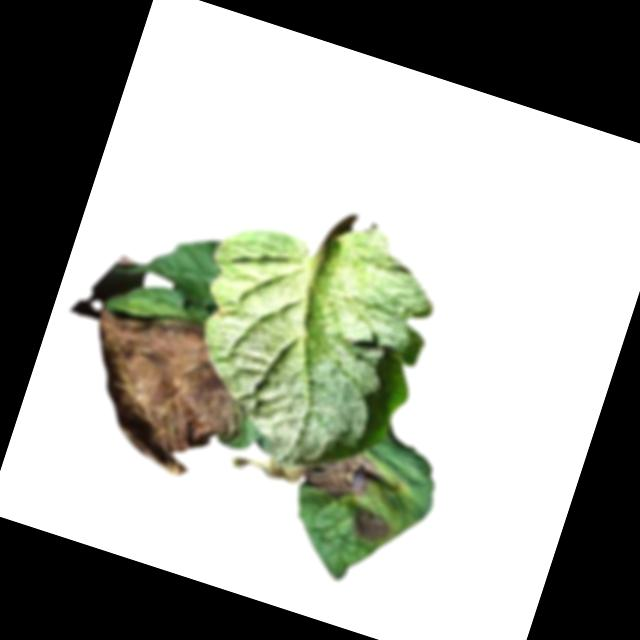Late_blight: (58, 294, 268, 491), (300, 437, 387, 509), (225, 446, 304, 495), (349, 506, 394, 549)
healthy: (159, 183, 455, 492)
